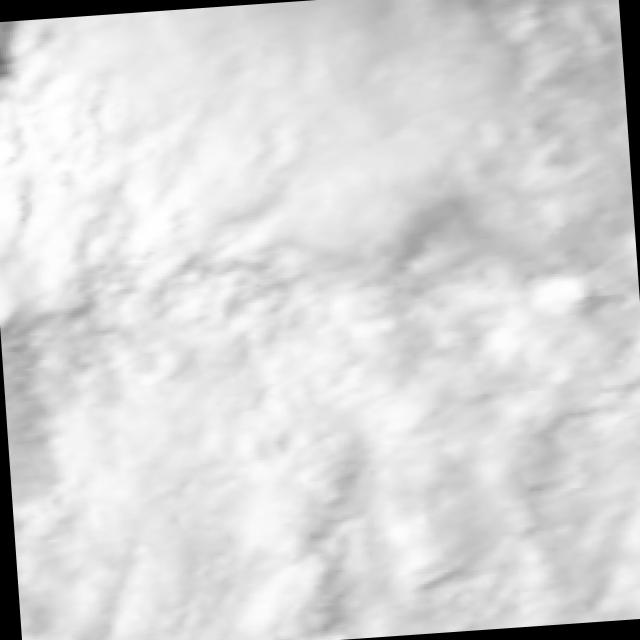CB: (156, 301, 640, 640), (60, 0, 517, 219)
